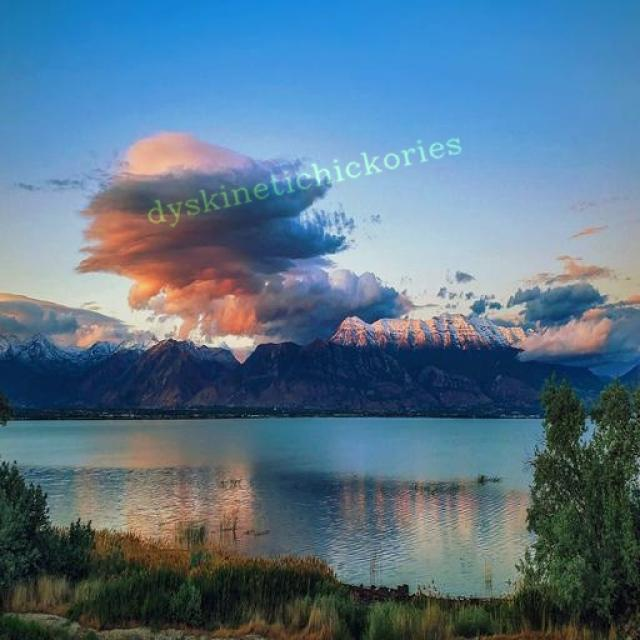watermark: (140, 128, 463, 229)
